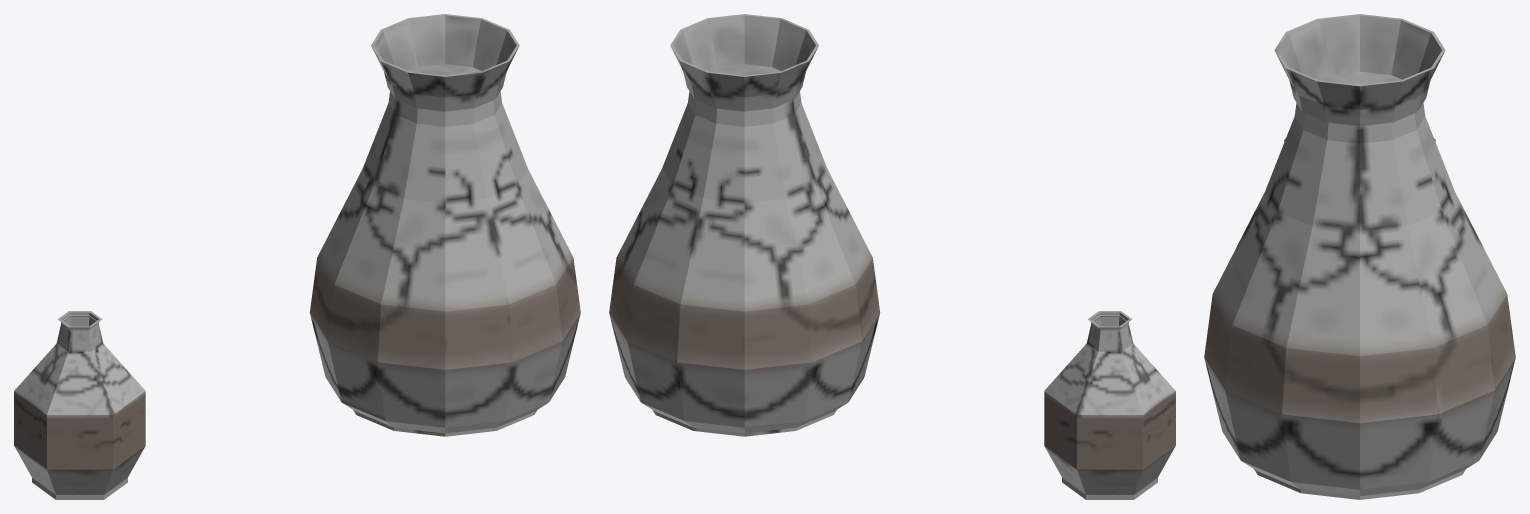
The model's file is Vase Large and Small.fbx.
3 views of the same model, side by side, from view 1: azimuth 30°, elevation 25°; view 2: azimuth 150°, elevation 25°; view 3: azimuth 270°, elevation 25° (orthographic). The views are drawn at different scales.
Visible parts, largest first — view 1: Vase Large, Vase Small; view 2: Vase Large, Vase Small; view 3: Vase Large.
Part boxes in pixels (bbox=[...]): Vase Large: bbox=[309, 14, 580, 436]; Vase Small: bbox=[14, 311, 145, 499]; Vase Large: bbox=[609, 14, 880, 436]; Vase Small: bbox=[1044, 311, 1175, 499]; Vase Large: bbox=[1204, 14, 1515, 499].
Bounding box in the file's own units: 0.8689 × 0.5427 × 0.3834.
